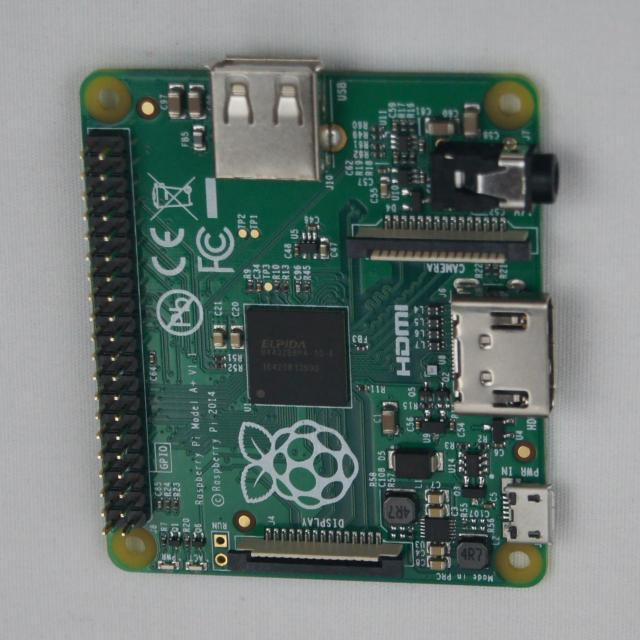Raspberry-Pi-1-A-: (81, 57, 559, 588)
